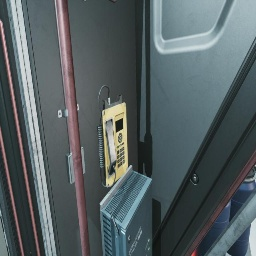EmergencyPhone ,: (97, 85, 128, 188)
